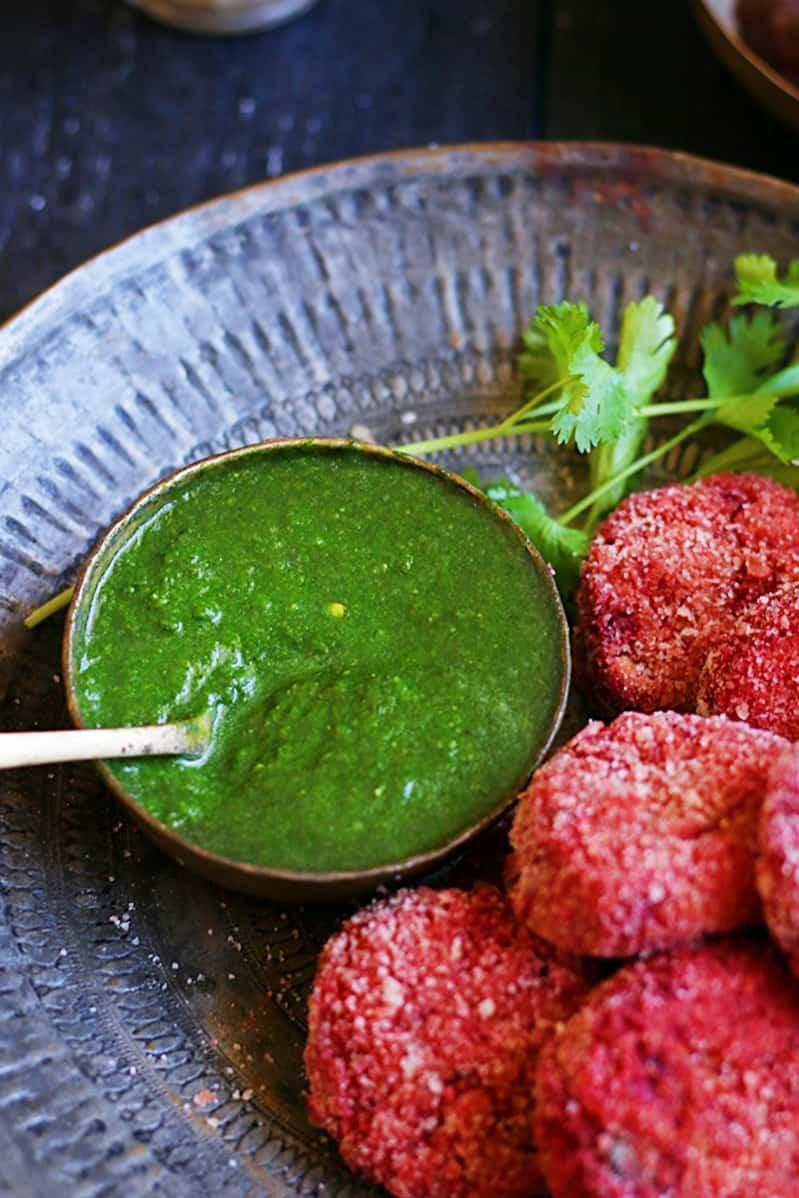GreenChutney: (85, 452, 557, 862)
